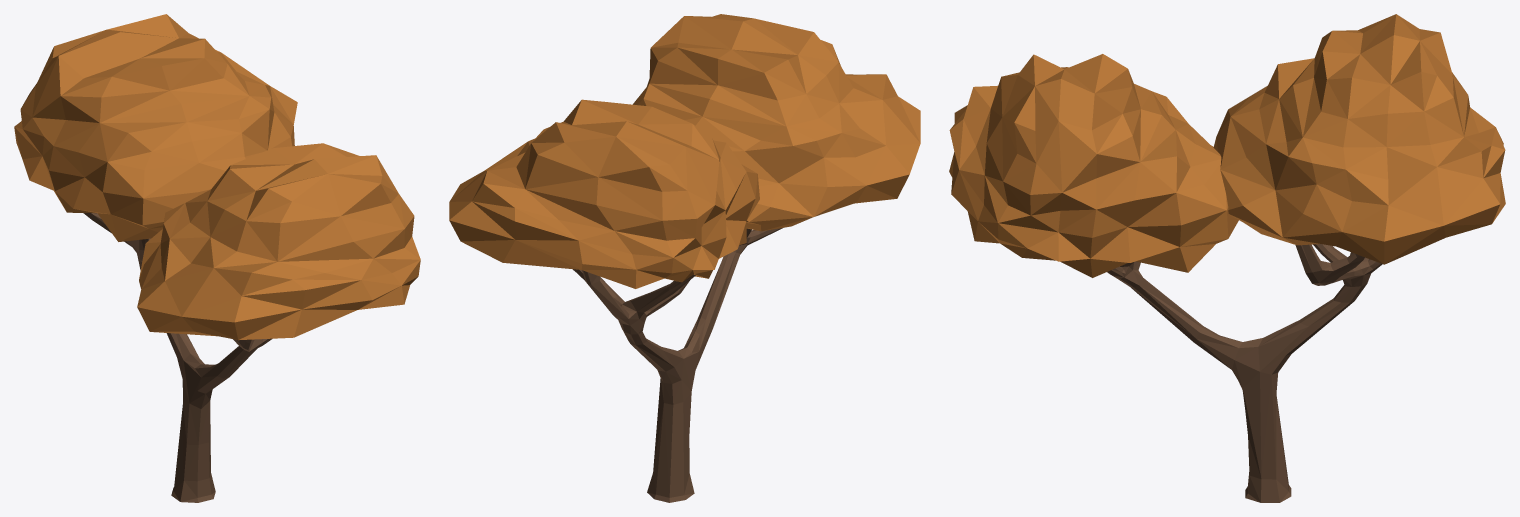
The model's file is CommonTree_Autumn_1.glb.
The picture shows the model from 3 angles, left to right: view 1: azimuth 30°, elevation 25°; view 2: azimuth 150°, elevation 25°; view 3: azimuth 270°, elevation 25°; orthographic projection. The views are drawn at different scales.
Parts seen in each view (by area): view 1: CommonTree_Autumn_1; view 2: CommonTree_Autumn_1; view 3: CommonTree_Autumn_1.
Boxes of the visible parts, x1,y1,x2,y2 form: CommonTree_Autumn_1: [14, 14, 420, 502]; CommonTree_Autumn_1: [449, 14, 920, 502]; CommonTree_Autumn_1: [949, 14, 1505, 502].
Size of the model in its own units: 1.89 by 2.48 by 2.77.
